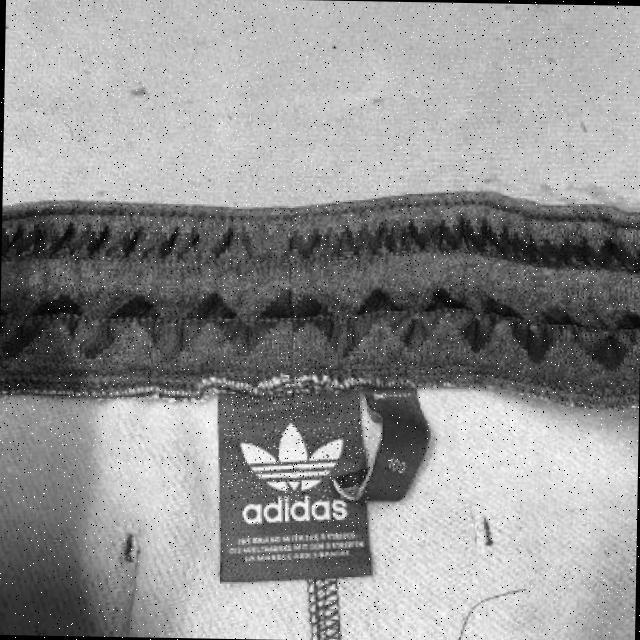Adidas: (223, 396, 371, 504)
